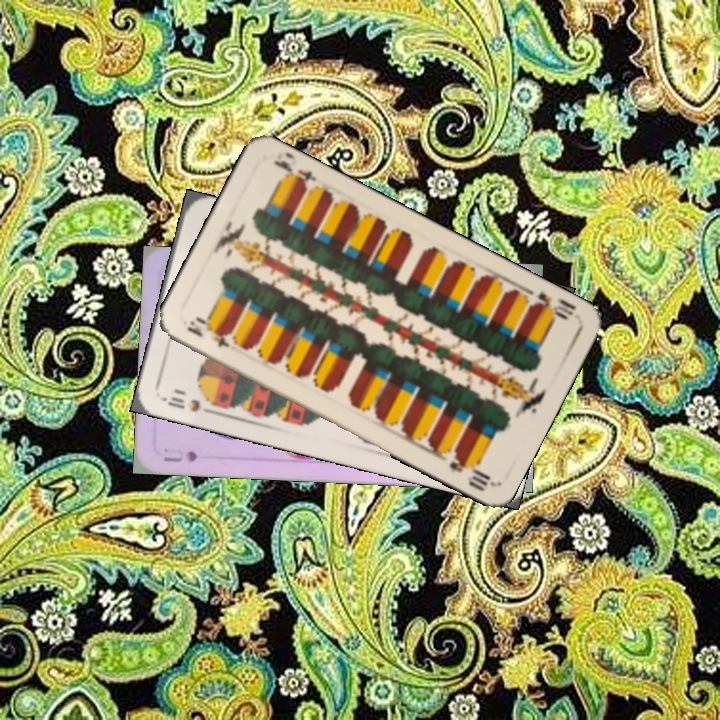E10: (521, 287, 578, 323), (182, 315, 232, 350)
S10: (158, 392, 218, 417)
SU: (159, 447, 200, 465)
